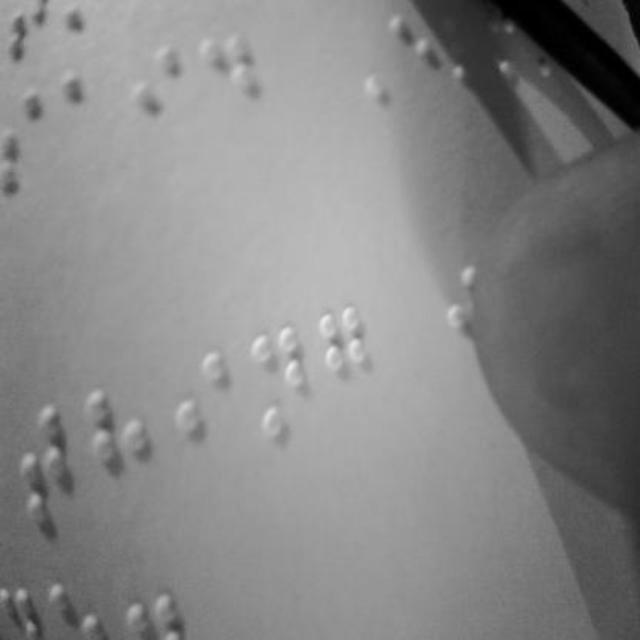braiile: (2, 394, 80, 536), (84, 388, 158, 518), (165, 351, 232, 489), (127, 38, 193, 165), (250, 316, 312, 450), (316, 303, 376, 432), (198, 29, 266, 141), (59, 60, 122, 174), (1, 80, 53, 198)
